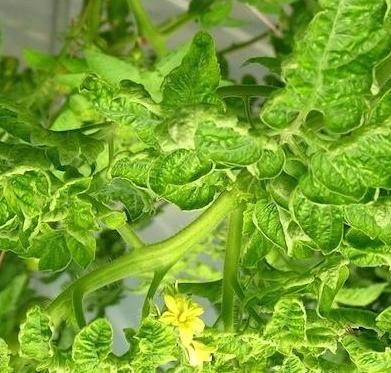Tomato leaf yellow virus: (119, 107, 288, 212), (271, 0, 389, 138), (192, 274, 339, 364), (289, 164, 391, 258), (153, 25, 240, 125), (319, 90, 391, 197), (106, 314, 181, 373), (0, 163, 56, 235), (243, 196, 307, 251), (12, 296, 60, 369), (67, 306, 121, 367), (337, 323, 391, 373)
